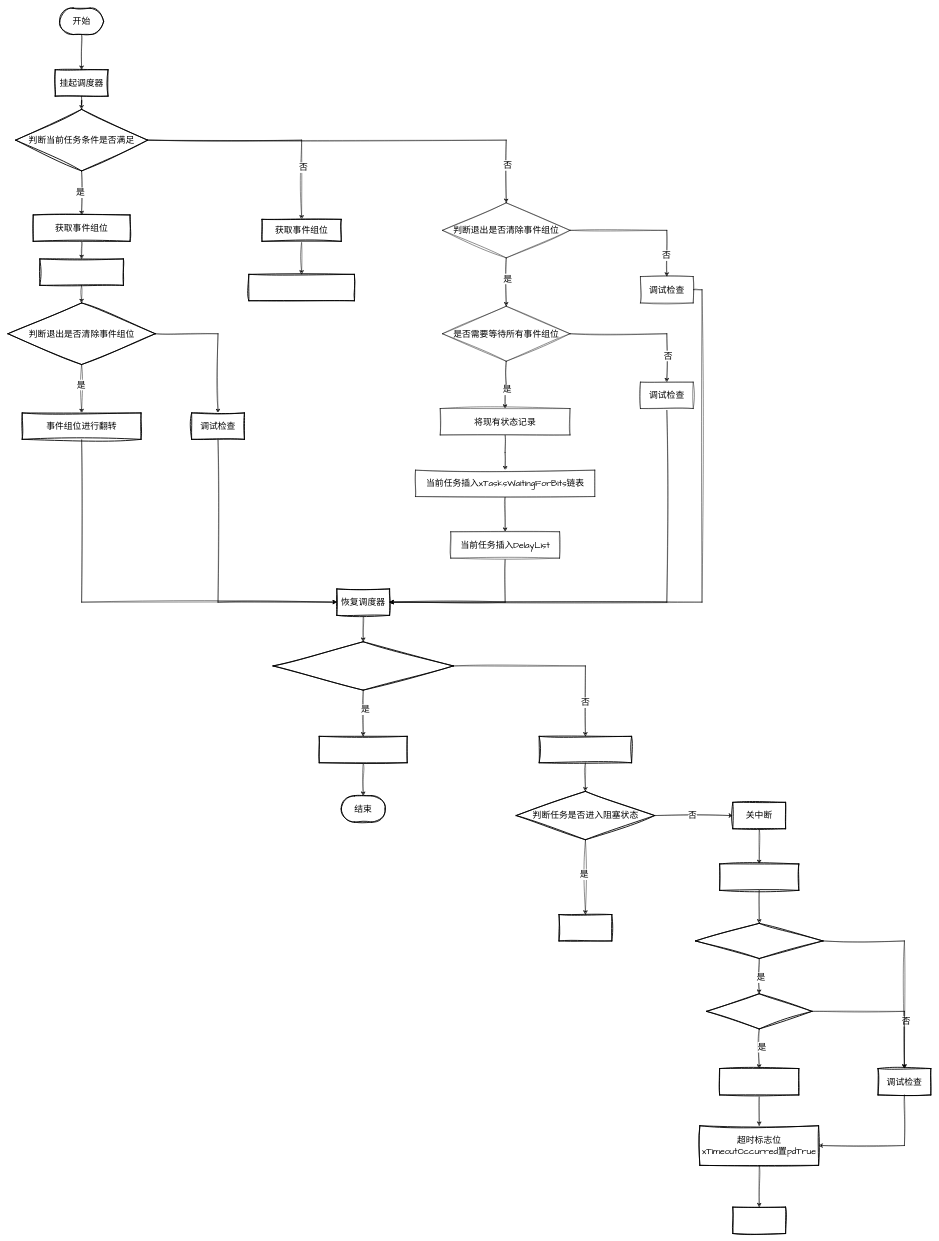
This 939x1241 diagram has some shape labels left out. Here are the shapes that lost their labels. From the top down, the box of each, then its label:
(39, 258, 124, 286): 等待时间设置为0
(248, 274, 355, 301): 超时标志设置位pdFasle
(272, 641, 454, 690): 判断xTicksToWait是否为0
(319, 736, 407, 763): 返回uxReturn
(539, 736, 632, 763): 存储状态的值，重置任务结构体中的itemValue
(719, 863, 799, 891): xReturn重新获取
(558, 914, 612, 941): 返回xReturn
(695, 923, 823, 959): 判断事件组是否满足条件
(706, 993, 812, 1029): 是否退出清除事件组位
(719, 1068, 799, 1095): 将所有事件组位置0
(732, 1206, 786, 1234): 开中断
